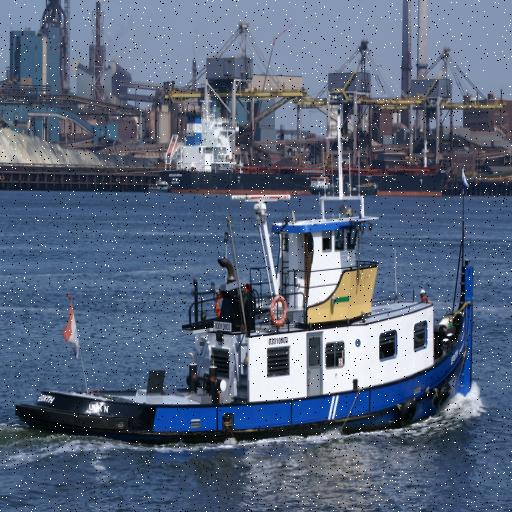tugboat: (13, 188, 479, 461)
